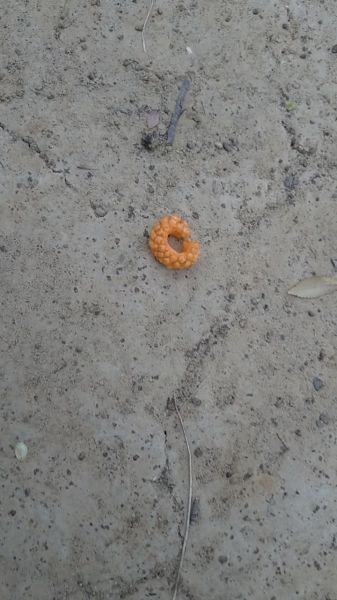eggs: (147, 209, 202, 271)
